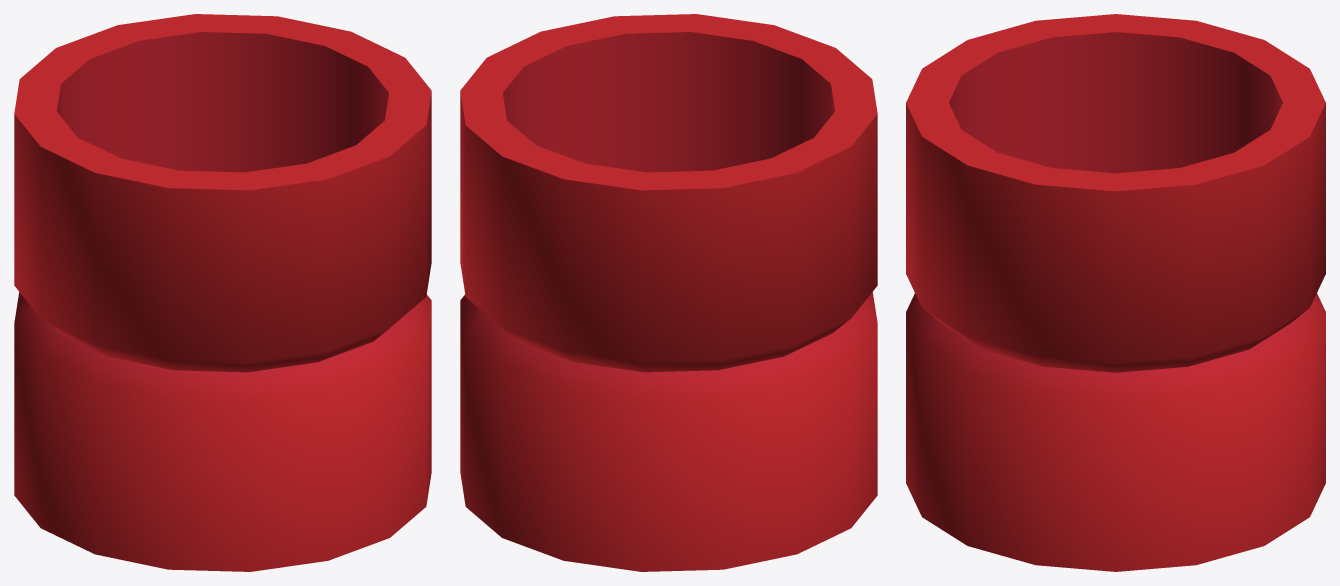
The model's file is pipe_straight_B_red.glb.
The picture shows the model from 3 angles, left to right: view 1: azimuth 30°, elevation 25°; view 2: azimuth 150°, elevation 25°; view 3: azimuth 270°, elevation 25°; orthographic projection.
Visible parts, largest first — view 1: pipe_straight_B_red; view 2: pipe_straight_B_red; view 3: pipe_straight_B_red.
Boxes of the visible parts, left/top/right/bottom form: pipe_straight_B_red: left=14, top=14, right=431, bottom=571; pipe_straight_B_red: left=460, top=14, right=877, bottom=571; pipe_straight_B_red: left=906, top=14, right=1325, bottom=571.
Size of the model in its own units: 2 by 2 by 2.
1 material, 1 textured.
